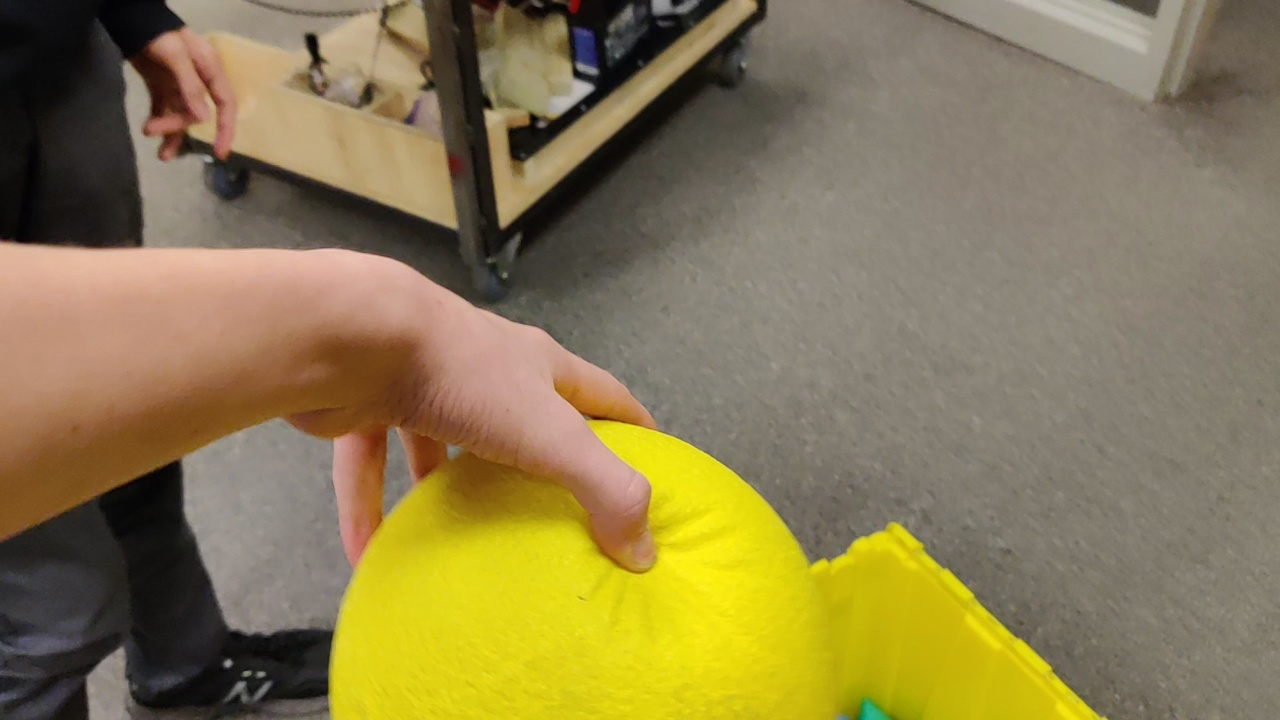Ball: (324, 421, 829, 720)
